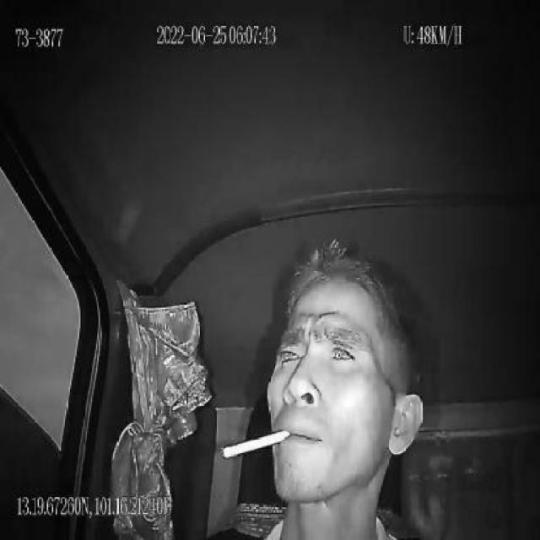smoking: (221, 427, 293, 461)
